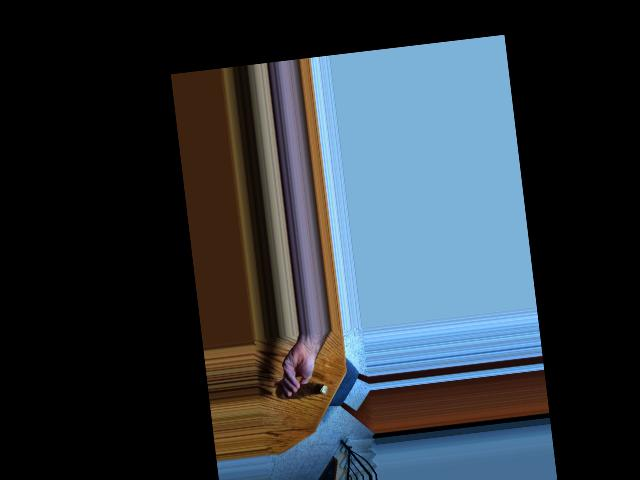sweet_potato: (278, 377, 325, 405)
